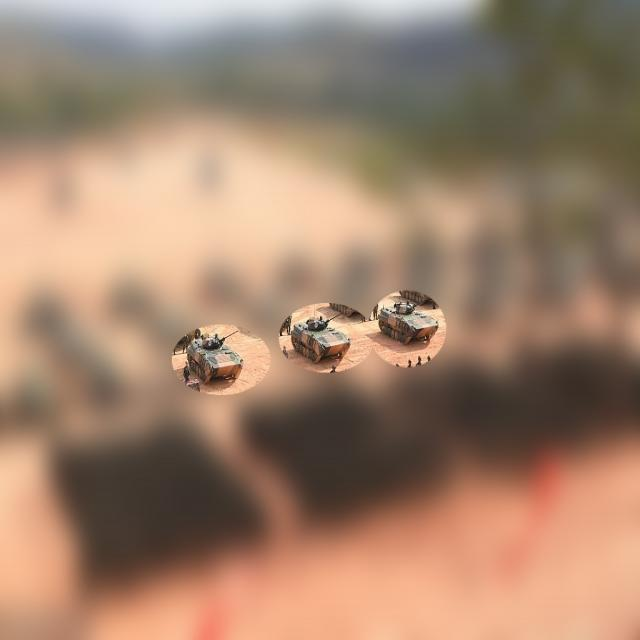tank: (184, 332, 249, 385), (292, 312, 352, 363), (378, 298, 439, 344)
